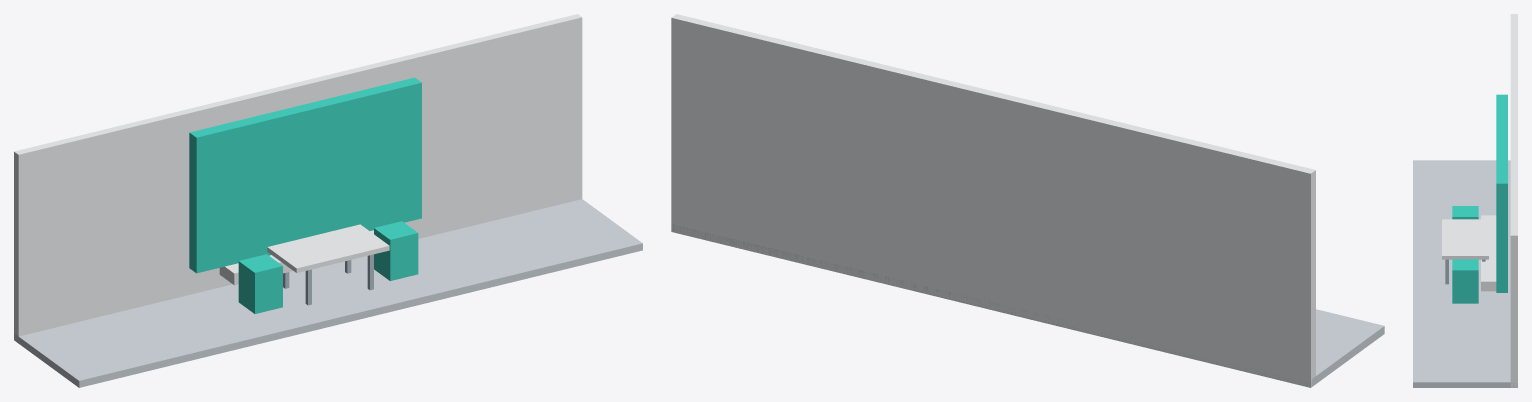
3 renders of one model, left to right at view 1: azimuth 30°, elevation 25°; view 2: azimuth 150°, elevation 25°; view 3: azimuth 270°, elevation 25°, orthographic. The views are drawn at different scales.
Visible parts, largest first — view 1: Exhibition Booth Concept; view 2: Exhibition Booth Concept; view 3: Exhibition Booth Concept.
Boxes of the visible parts, bbox=[...] form: Exhibition Booth Concept: bbox=[14, 14, 642, 387]; Exhibition Booth Concept: bbox=[671, 14, 1384, 387]; Exhibition Booth Concept: bbox=[1413, 14, 1517, 387].
Bounding box in the file's own units: 10 × 3.2 × 2.
